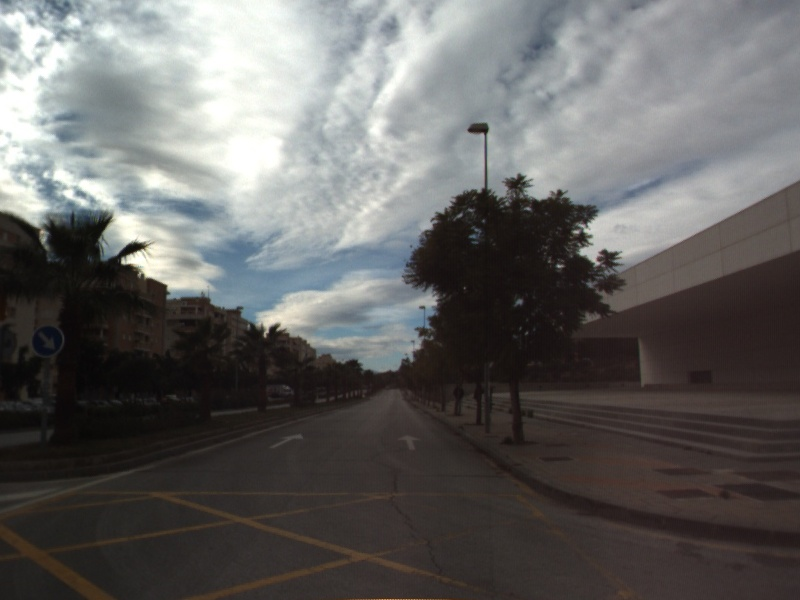STRAIGHT: (267, 431, 305, 450), (396, 432, 423, 452)
